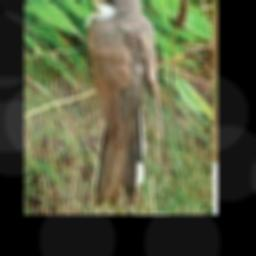Cuckoo: (77, 0, 158, 203)
